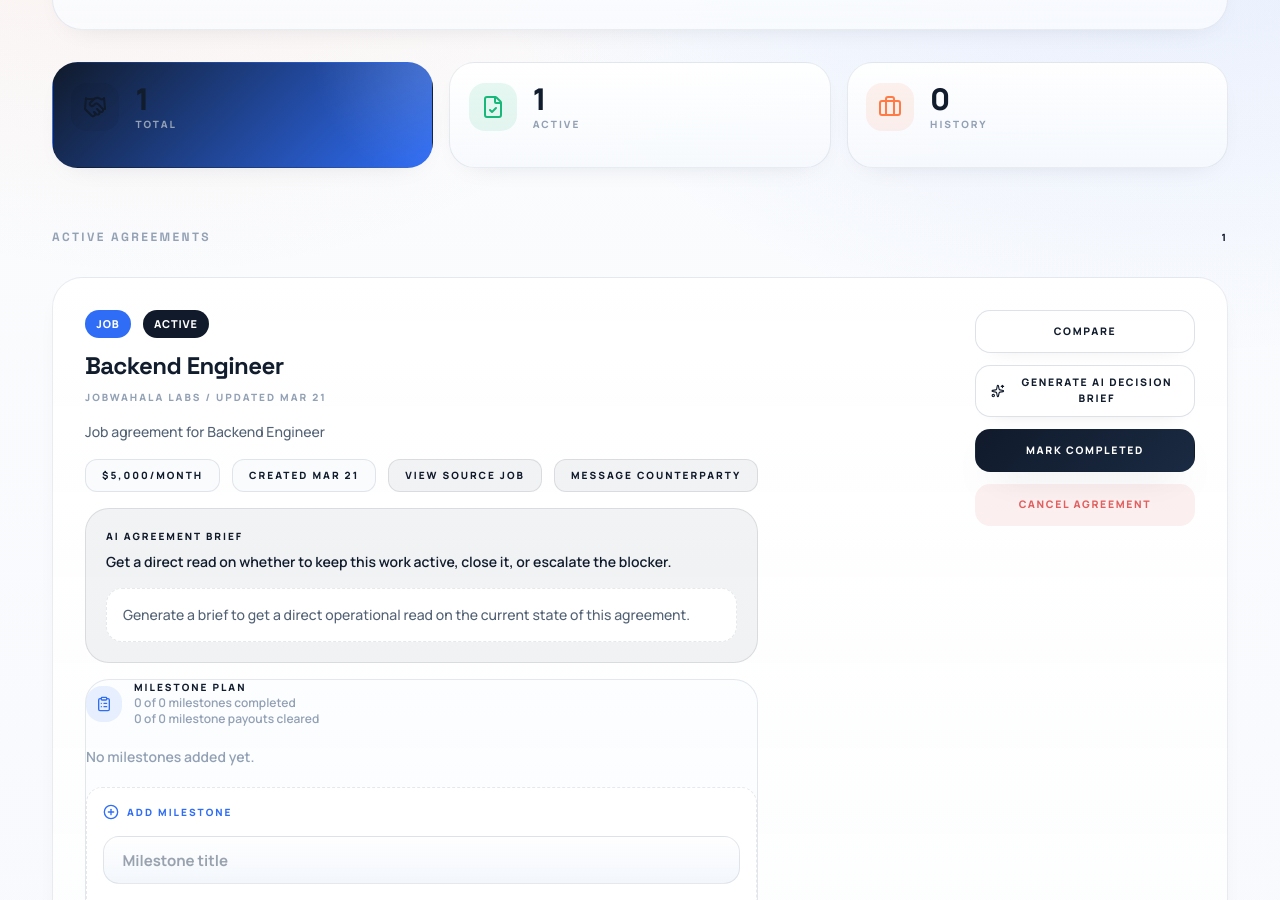
Test: Agreements lifecycle flow › loads an active hired agreement and refreshes after completion
(page scrolled)
Expected: the heading "Backend Engineer" is shown, [85,350,284,380]
Expected: the link "View Source Job" is shown, [388,459,542,492]
Click the button "Mark Completed" at (1085,450), box [975,429,1195,472]
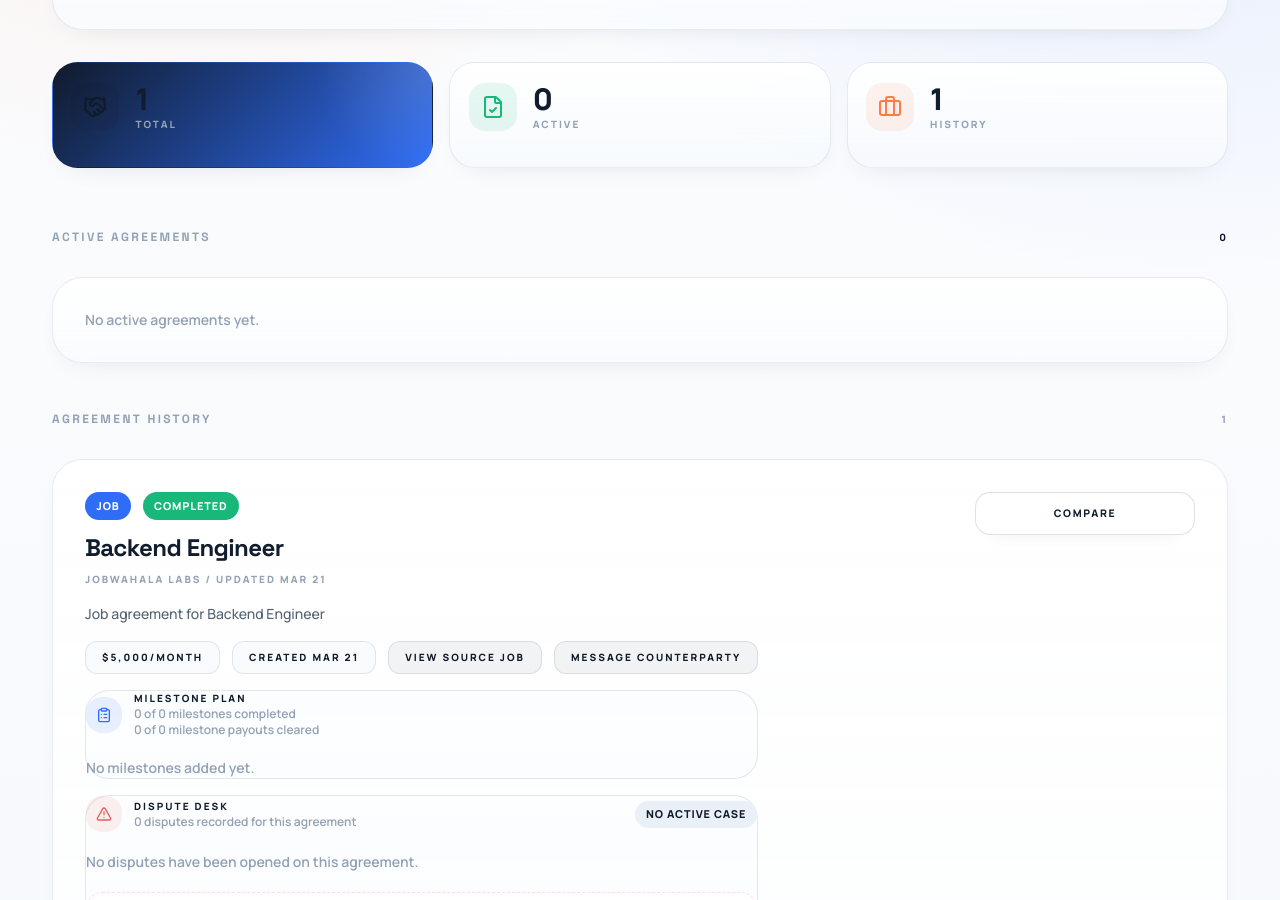
Result: the text "COMPLETED" is shown at [143,492,239,520]
